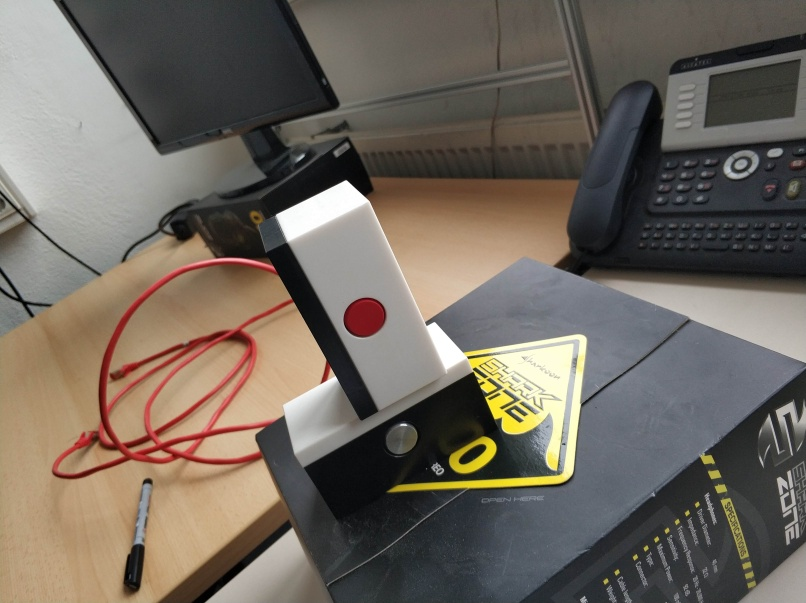black+white+red: (255, 175, 449, 426)
white+black+silver: (277, 319, 498, 523)
